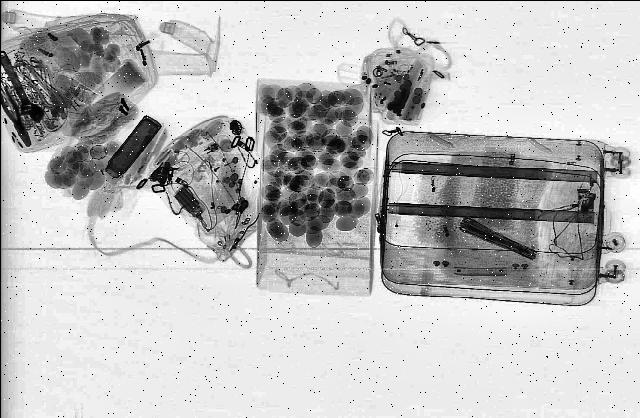Pliers: (0, 104, 38, 146)
Wrench: (0, 66, 36, 116)
